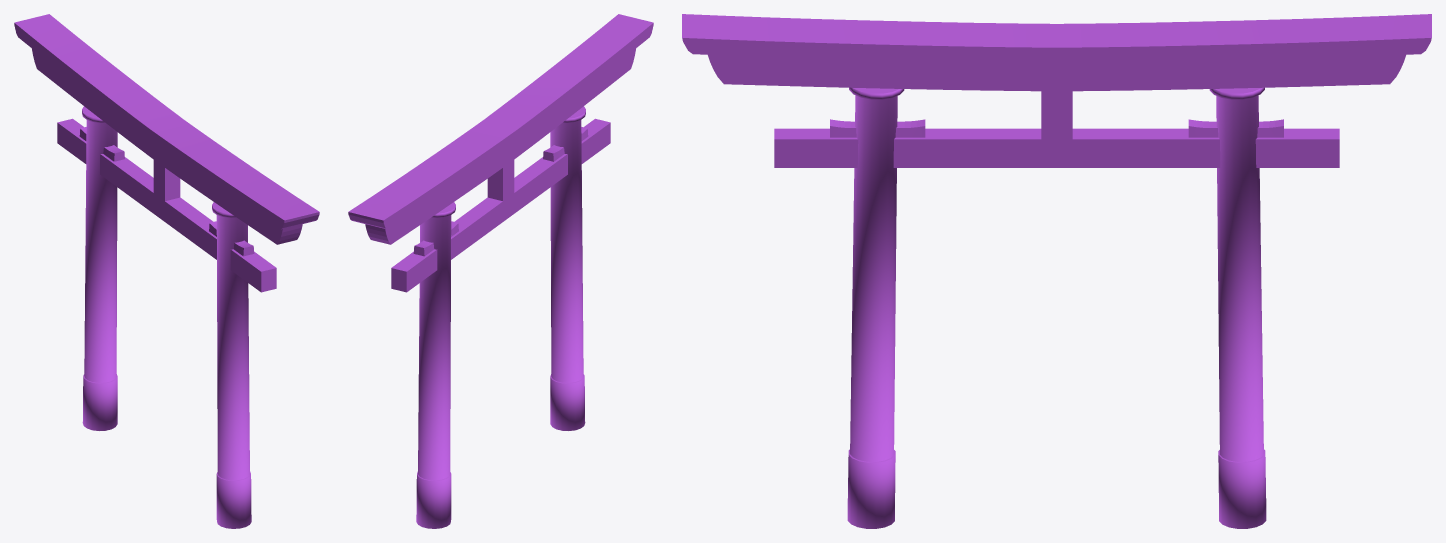
Rendered from torii.fbx.
The picture shows the model from 3 angles, left to right: view 1: azimuth 30°, elevation 25°; view 2: azimuth 150°, elevation 25°; view 3: azimuth 270°, elevation 25°; orthographic projection. The views are drawn at different scales.
Visible parts, largest first — view 1: Cylinder; view 2: Cylinder; view 3: Cylinder.
Part boxes in pixels (bbox=[...]): Cylinder: bbox=[14, 14, 319, 528]; Cylinder: bbox=[348, 14, 653, 528]; Cylinder: bbox=[682, 14, 1431, 528].
Bounding box in the file's own units: 55.33 × 533 × 735.
